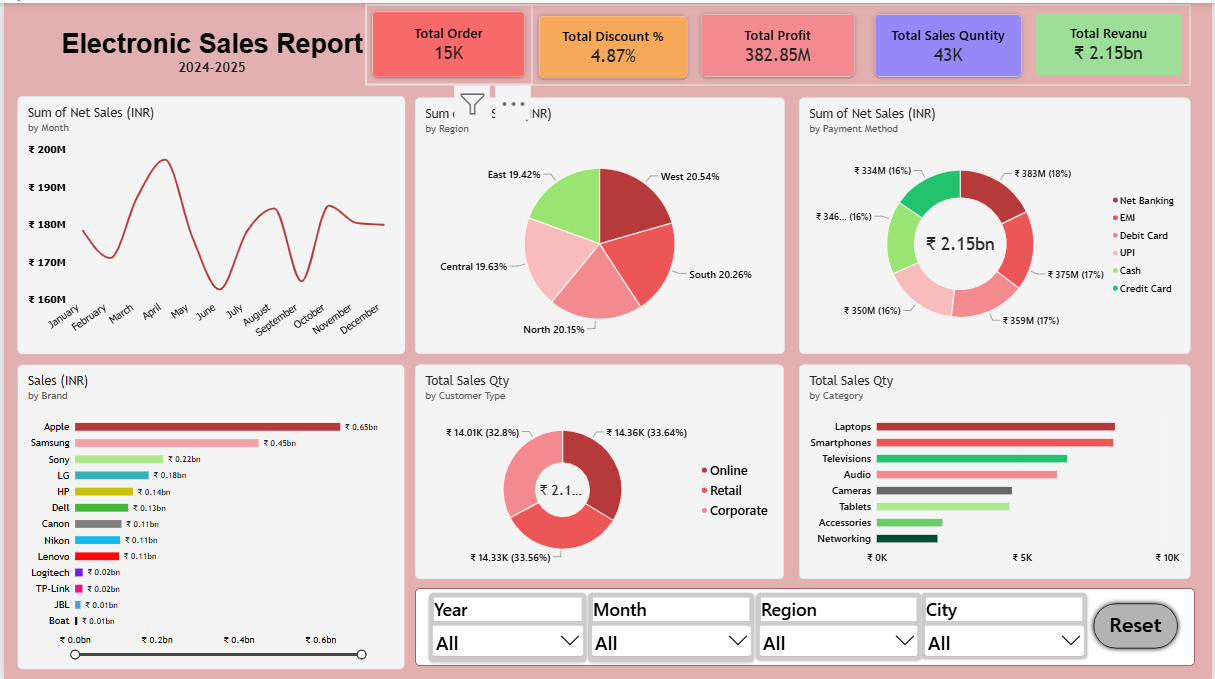

What the dashboard file says about the page in this screenshot:
{"tool":"powerbi","page":{"name":"Main","canvas":[1920,1080],"ordinal":0},"visuals":[{"type":"lineChart","fields":{"Category":["Sales Data.Month"],"Y":["Sum(Sales Data.Net Sales (INR))"]},"box":[21.5,147.9,616.9,410.5],"z":0},{"type":"shape","box":[653.7,930.5,1240.7,124.1],"z":0,"group":"g1"},{"type":"pieChart","fields":{"Category":["Sales Data.Region"],"Y":["Sum(Sales Data.Net Sales (INR))"]},"box":[653.7,150.3,587.8,408],"z":1000},{"type":"slicer","fields":{"Values":["Sales Data.City"]},"box":[1458.7,938.5,266.3,106.9],"z":1000,"group":"g1"},{"type":"donutChart","fields":{"Category":["Sales Data.Payment Method"],"Y":["Sum(Sales Data.Net Sales (INR))"]},"box":[1264.5,150.3,622.7,408],"z":2000},{"type":"donutChart","fields":{"Y":["Sales Data.Total Sales"],"Category":["Sales Data.Customer Type"]},"box":[653.7,575,586.9,341.2],"z":3000},{"type":"slicer","fields":{"Values":["Sales Data.Region"]},"box":[1194.2,938.5,264.5,109.3],"z":3000,"group":"g1"},{"type":"textbox","box":[31,40.6,599.9,87.4],"z":4000},{"type":"slicer","fields":{"Values":["Sales Data.Year"]},"box":[675.8,938.5,252.1,111.7],"z":4000,"group":"g1"},{"type":"barChart","fields":{"Category":["Sales Data.Brand"],"Y":["Sum(Sales Data.Net Sales (INR))"]},"box":[21.5,575,615.6,484.3],"z":5000},{"type":"group","id":"g1","title":"Group 1","box":[653.7,930.5,1240.7,124.1],"z":6000},{"type":"slicer","fields":{"Values":["Sales Data.Months"]},"box":[927.9,938.5,266.3,111.7],"z":6000,"group":"g1"},{"type":"barChart","fields":{"Category":["Sales Data.Category"],"Y":["Sales Data.Total Sales"]},"box":[1264.5,575,622.7,341.2],"z":7000},{"type":"actionButton","box":[1725,948.2,149.9,87.4],"z":7000,"group":"g1"},{"type":"group","id":"g2","title":"Group 2","box":[576.1,2.9,1311.2,128.3],"z":8000},{"type":"group","id":"g3","title":"Group 3","box":[576.1,2.9,1311.2,128.3],"z":8002,"group":"g2"},{"type":"cardVisual","fields":{"Data":["Sum(Sales Data.Net Sales (INR))"]},"box":[1631.4,4.7,255.9,121.7],"z":10000,"group":"g3"},{"type":"cardVisual","fields":{"Data":["Sum(Sales Data.Quantity)"]},"box":[1375.5,7.1,255.9,121.7],"z":11000,"group":"g3"},{"type":"cardVisual","fields":{"Data":["Avg(Sales Data.Discount %)"]},"box":[839.9,9.5,258.5,121.7],"z":12000,"group":"g3"},{"type":"cardVisual","fields":{"Data":["Sum(Sales Data.Profit (INR))"]},"box":[1098.5,7.1,266.5,121.7],"z":13000,"group":"g3"},{"type":"cardVisual","fields":{"Data":["Count(Sales Data.Order ID)"]},"box":[576.1,2.9,264.8,126.5],"z":14000,"group":"g3"}]}

Visuals, with their boxes in screenshot pixels (x1, y1, x2, y2), scaled from the page's 1920x1080 canvas onto the 1215x679 screenshot:
lineChart - Sales Data.Month x Sum(Sales Data.Net Sales (INR)): 14 93 404 351
shape: 414 585 1199 663
pieChart - Sales Data.Region x Sum(Sales Data.Net Sales (INR)): 414 94 786 351
slicer - Sales Data.City: 923 590 1092 657
donutChart - Sales Data.Payment Method x Sum(Sales Data.Net Sales (INR)): 800 94 1194 351
donutChart - Sales Data.Total Sales x Sales Data.Customer Type: 414 362 785 576
slicer - Sales Data.Region: 756 590 923 659
textbox: 20 26 399 80
slicer - Sales Data.Year: 428 590 587 660
barChart - Sales Data.Brand x Sum(Sales Data.Net Sales (INR)): 14 362 403 666
"Group 1" group: 414 585 1199 663
slicer - Sales Data.Months: 587 590 756 660
barChart - Sales Data.Category x Sales Data.Total Sales: 800 362 1194 576
actionButton: 1092 596 1186 651
"Group 2" group: 365 2 1194 82
"Group 3" group: 365 2 1194 82
cardVisual - Sum(Sales Data.Net Sales (INR)): 1032 3 1194 79
cardVisual - Sum(Sales Data.Quantity): 870 4 1032 81
cardVisual - Avg(Sales Data.Discount %): 531 6 695 82
cardVisual - Sum(Sales Data.Profit (INR)): 695 4 864 81
cardVisual - Count(Sales Data.Order ID): 365 2 532 81
